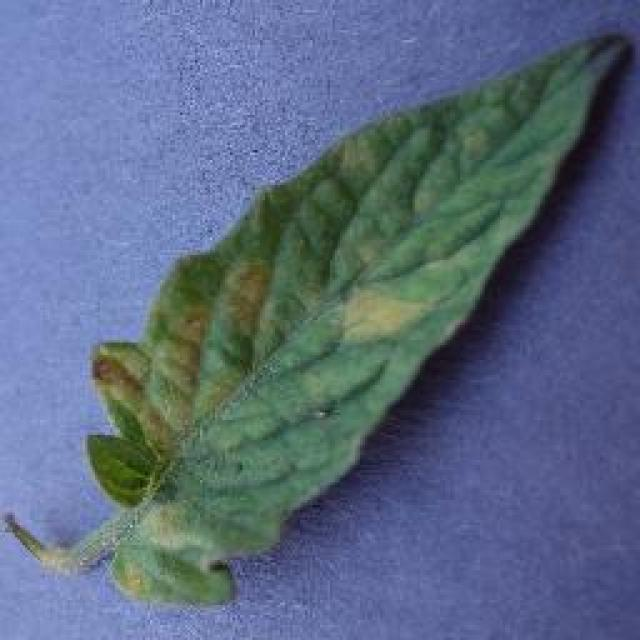Tomato mold leaf: (86, 36, 629, 609)
